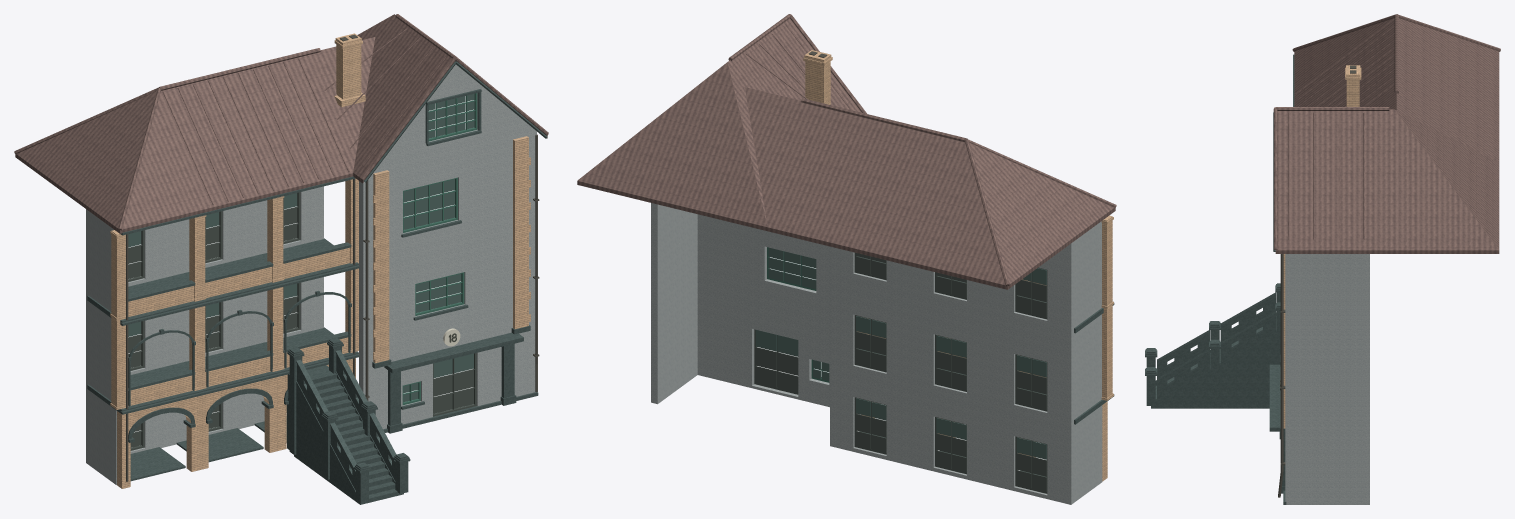
The model's file is lod-source.glb.
3 renders of one model, left to right at view 1: azimuth 30°, elevation 25°; view 2: azimuth 150°, elevation 25°; view 3: azimuth 270°, elevation 25°, orthographic. The views are drawn at different scales.
Parts seen in each view (by area): view 1: 董竹君旧居18号楼南面券廊与题号山墙; view 2: 董竹君旧居18号楼南面券廊与题号山墙; view 3: 董竹君旧居18号楼南面券廊与题号山墙.
Boxes of the visible parts, left/top/right/bottom form: 董竹君旧居18号楼南面券廊与题号山墙: left=14, top=14, right=548, bottom=504; 董竹君旧居18号楼南面券廊与题号山墙: left=577, top=14, right=1116, bottom=504; 董竹君旧居18号楼南面券廊与题号山墙: left=1145, top=14, right=1500, bottom=504.
Size of the model in its own units: 17.89 by 15.03 by 13.39.
Materials: 10 (4 with a texture image).
